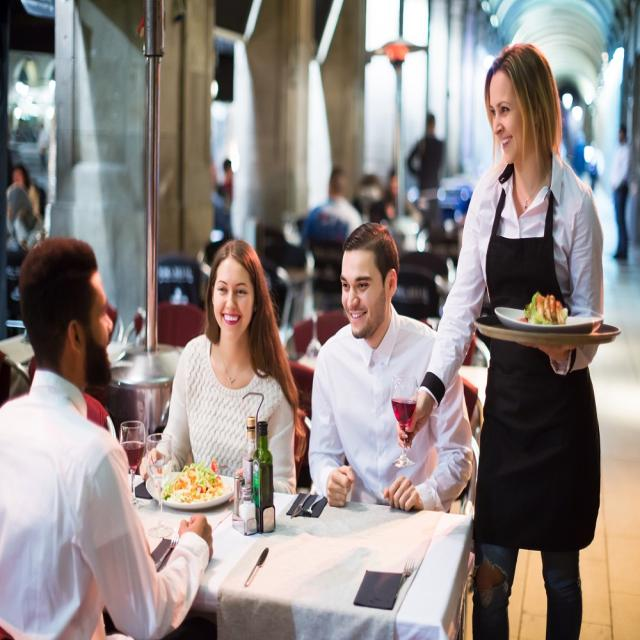person: (0, 214, 217, 640), (453, 60, 612, 640), (324, 216, 483, 547), (198, 250, 296, 557)
